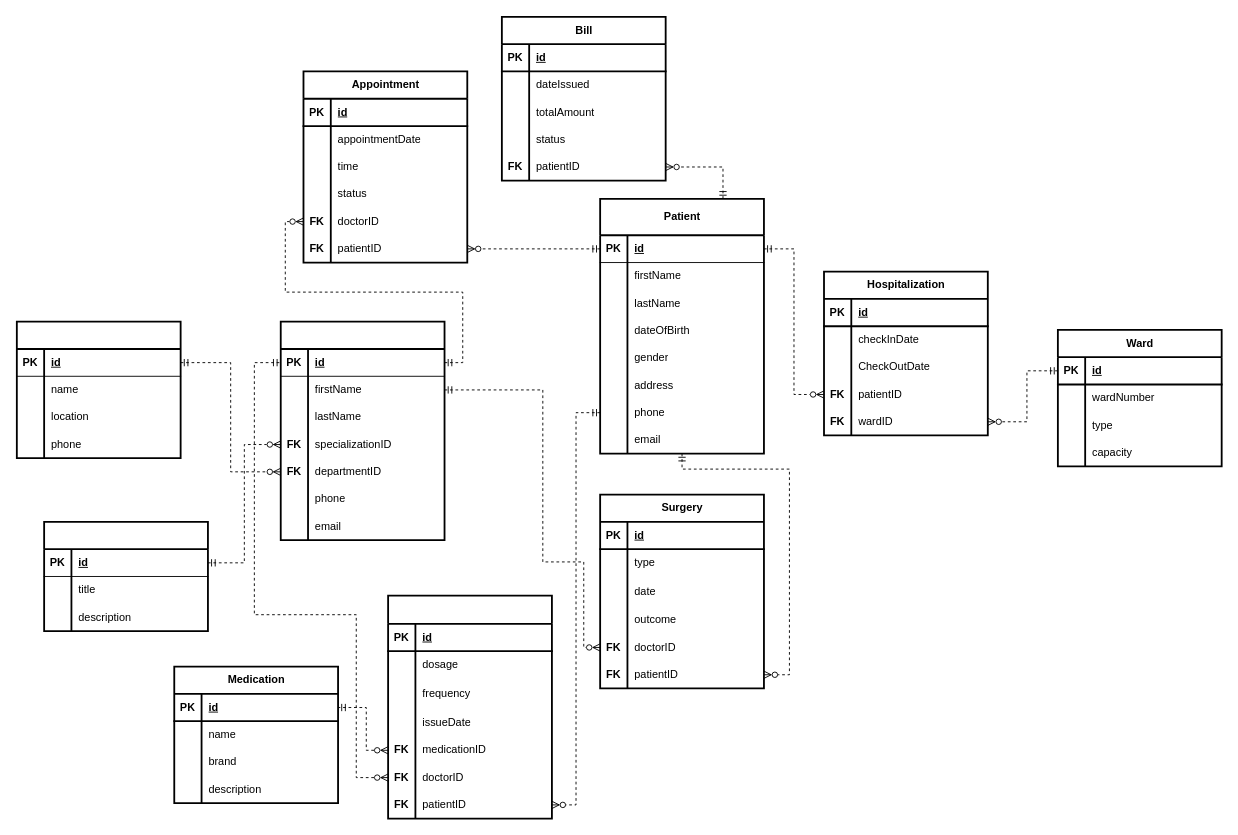
Image size: 1238x835. Some labels were removed from this diagram. The box of each missing label's shape, as (x1, y1, x2, y2) in pixels:
Department: (15, 320, 181, 459)
Doctor: (279, 320, 445, 541)
Prescription: (387, 594, 552, 819)
Specialization: (43, 521, 208, 632)
